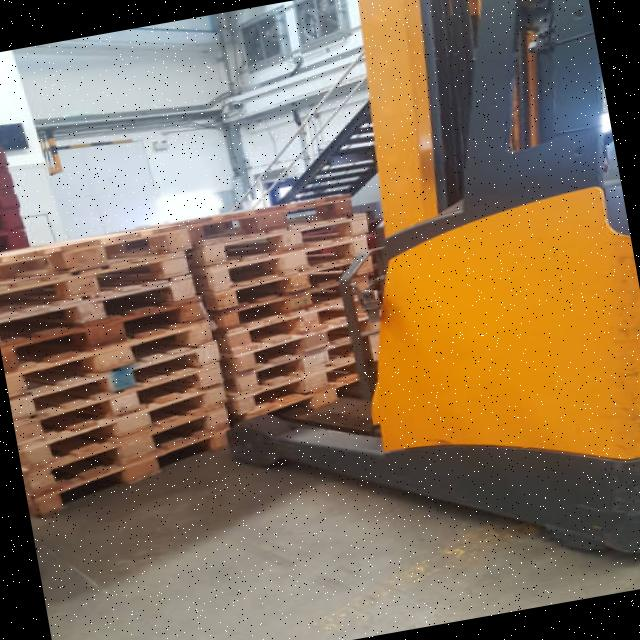Wooden-Pallets: (3, 310, 221, 399), (17, 382, 224, 475), (0, 269, 198, 349), (0, 215, 194, 291), (205, 205, 367, 268)
